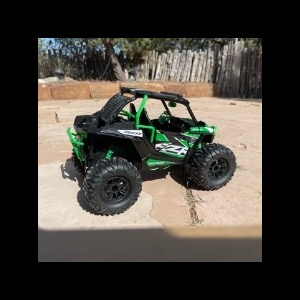polaris: (66, 83, 238, 218)
